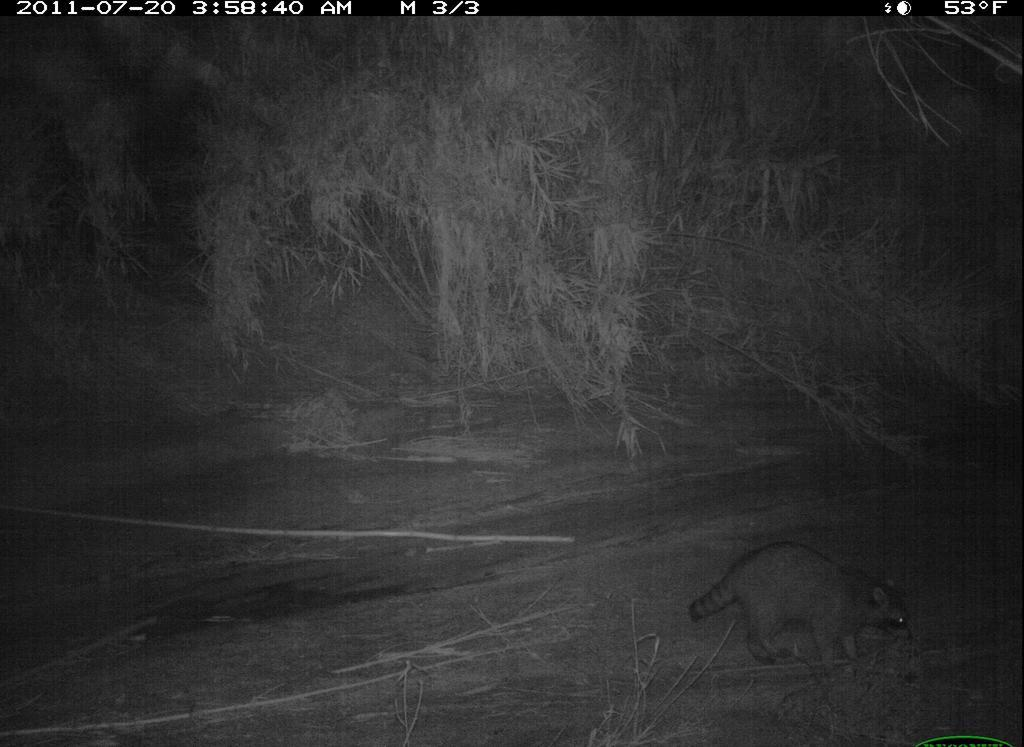raccoon: (680, 534, 924, 682)
